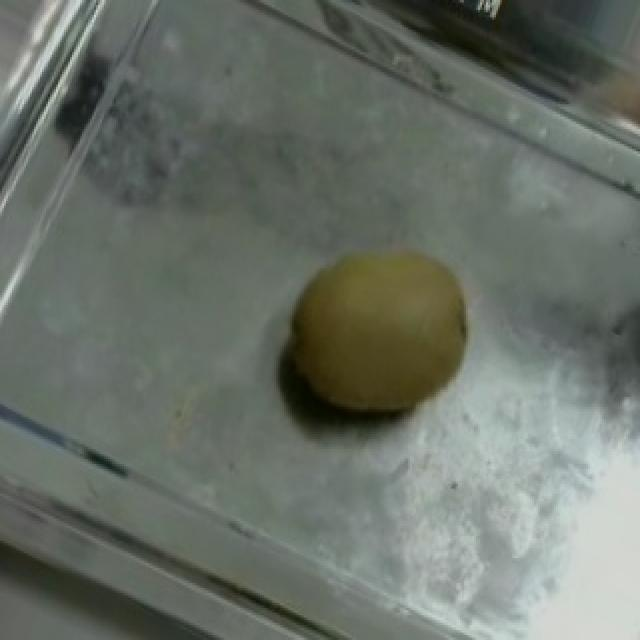Fruit: (248, 206, 518, 456), (586, 0, 640, 191)
